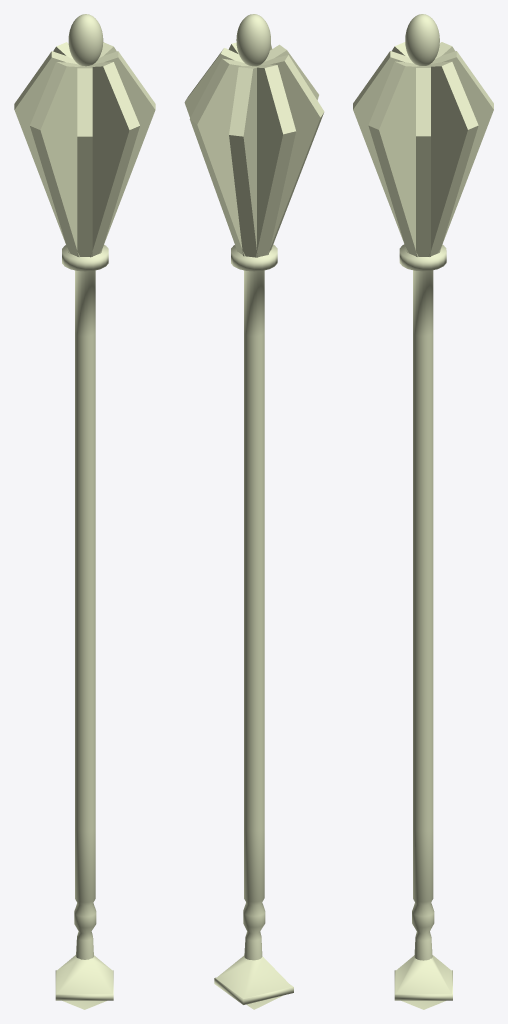
File: Wea 1.fbx
The picture shows the model from 3 angles, left to right: view 1: azimuth 90°, elevation 25°; view 2: azimuth 210°, elevation 25°; view 3: azimuth 270°, elevation 25°; orthographic projection.
Parts seen in each view (by area): view 1: Wea; view 2: Wea; view 3: Wea.
Part boxes in pixels (x1,y1,x2,y2): Wea: [14, 14, 155, 1009]; Wea: [184, 14, 324, 1009]; Wea: [353, 14, 493, 1009].
Bounding box in the file's own units: 23.12 × 180 × 23.12.
